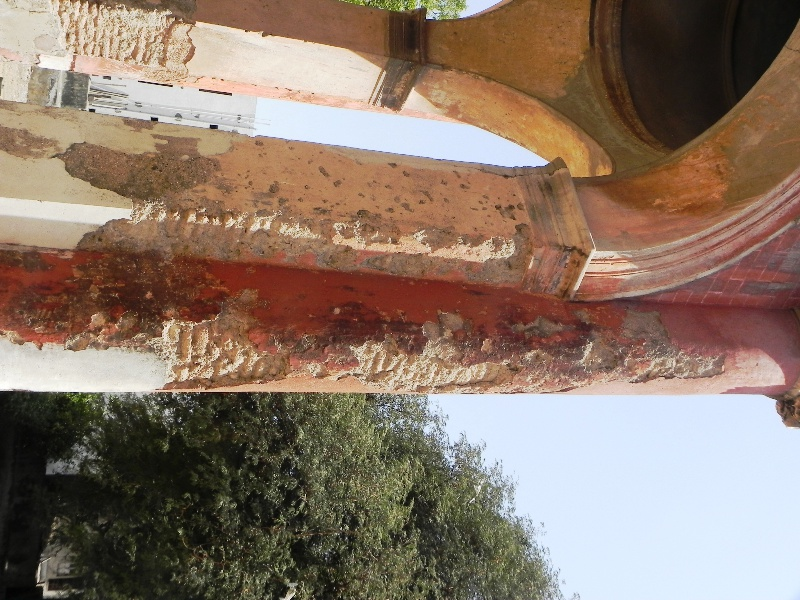Exposed Bricks: (353, 338, 505, 388), (60, 1, 174, 63), (170, 324, 275, 387), (155, 208, 264, 250)
Spalling: (620, 305, 731, 387), (81, 145, 219, 197)
